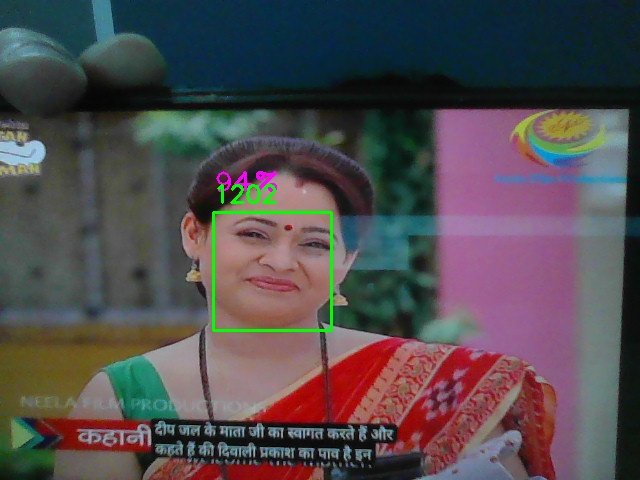fake: (213, 212, 332, 331)
